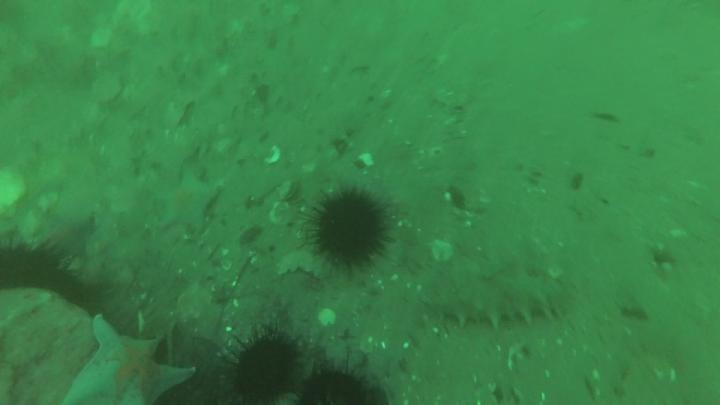echinus: (315, 193, 386, 263), (235, 338, 292, 405), (4, 250, 72, 290), (302, 369, 363, 405)
holothurian: (427, 272, 562, 328)
starfish: (61, 317, 198, 405), (158, 173, 218, 231)
